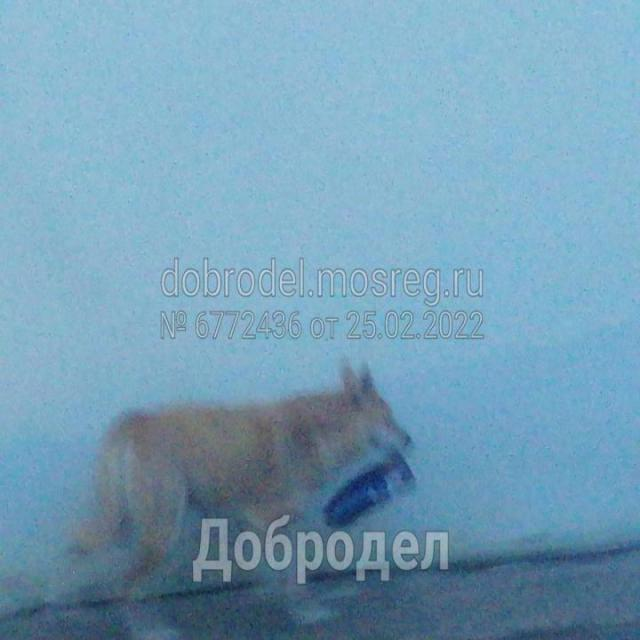dog: (65, 361, 432, 614)
